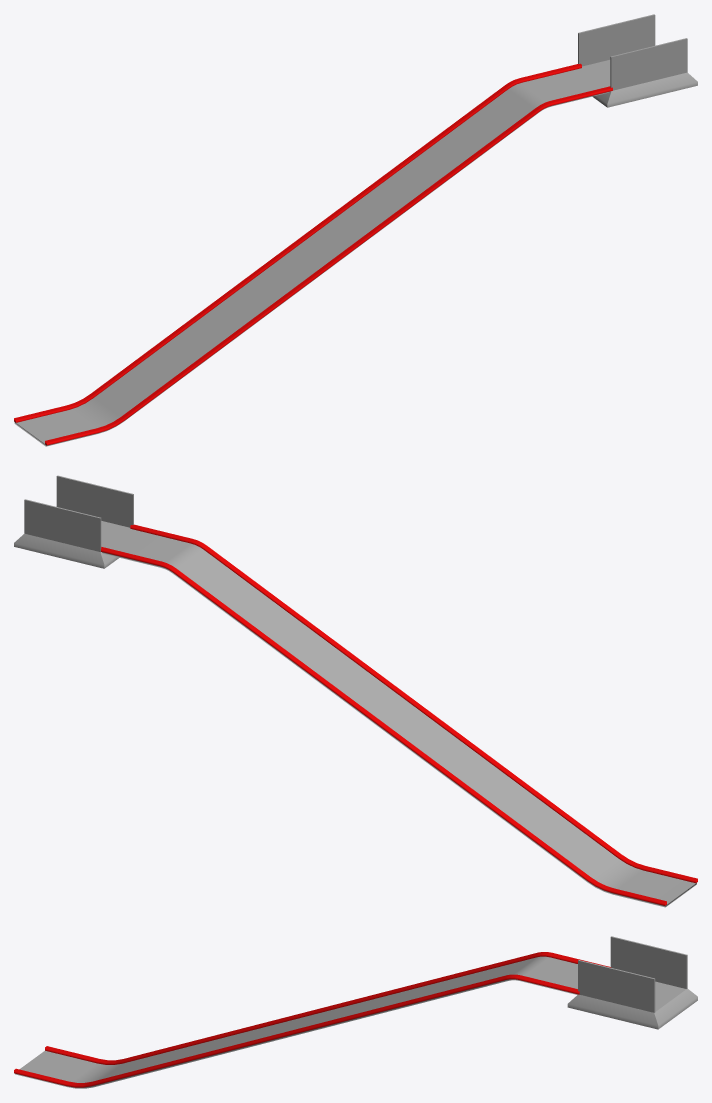
File: cautruot2.fbx
3 views of the same model, one above another, from view 1: azimuth 30°, elevation 25°; view 2: azimuth 150°, elevation 25°; view 3: azimuth 330°, elevation 25° (orthographic).
Visible parts, largest first — view 1: cautruot, thanhcautruot1, thanhcautruot2, lancan1, lancan2, san1; view 2: cautruot, thanhcautruot1, thanhcautruot2, lancan2, lancan1, san1; view 3: cautruot, thanhcautruot1, thanhcautruot2, lancan1, san1, lancan2.
Boxes of the visible parts, <box> form: cautruot: <box>14,68,608,446</box>; thanhcautruot1: <box>45,86,612,445</box>; thanhcautruot2: <box>14,63,581,422</box>; lancan1: <box>610,38,687,90</box>; lancan2: <box>578,14,655,66</box>; san1: <box>582,60,697,107</box>; cautruot: <box>102,529,696,907</box>; thanhcautruot1: <box>130,524,697,883</box>; thanhcautruot2: <box>101,547,666,905</box>; lancan2: <box>24,499,101,552</box>; lancan1: <box>56,475,133,527</box>; san1: <box>14,521,130,568</box>; cautruot: <box>15,956,577,1088</box>; thanhcautruot1: <box>14,974,579,1087</box>; thanhcautruot2: <box>45,952,611,1064</box>; lancan1: <box>578,960,655,1012</box>; san1: <box>567,981,697,1029</box>; lancan2: <box>610,936,687,988</box>.
Bounding box in the file's own units: 53.7 × 19.99 × 5.71.
